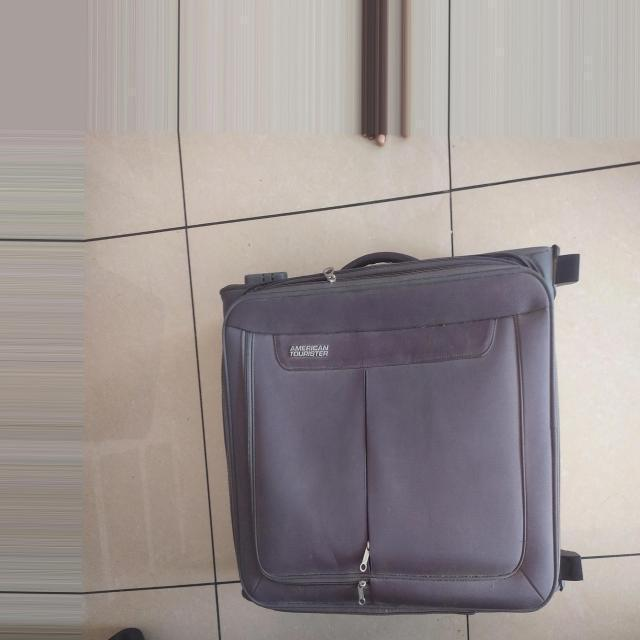Suitcase: (222, 240, 600, 616)
